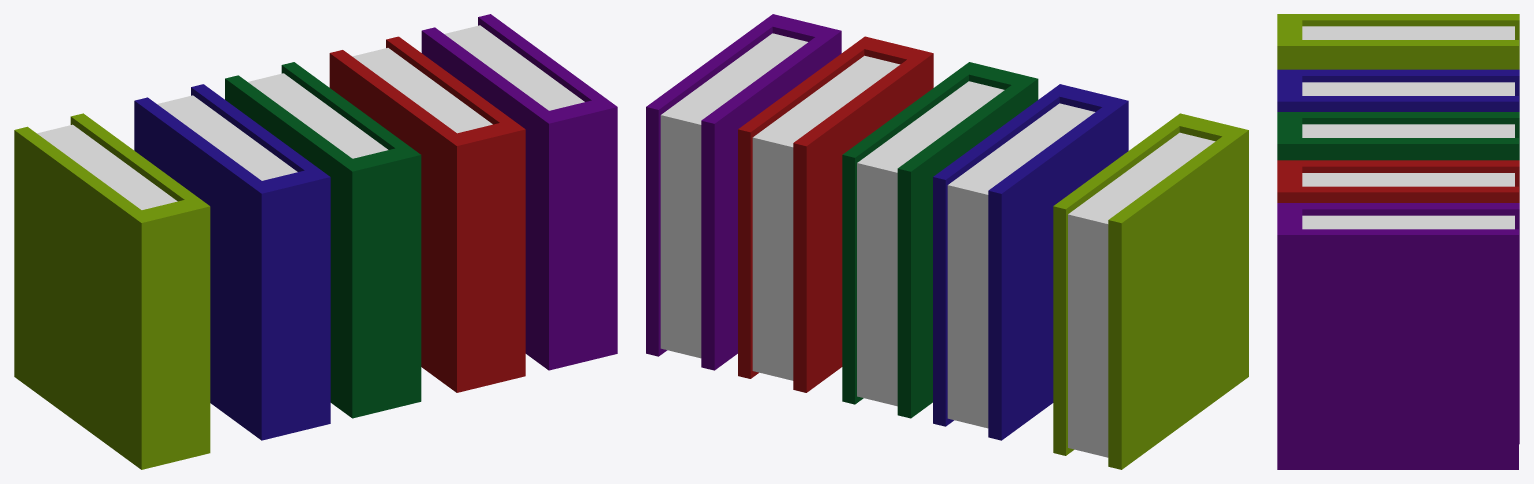
Rendered from Books.fbx.
3 renders of one model, left to right at view 1: azimuth 30°, elevation 25°; view 2: azimuth 150°, elevation 25°; view 3: azimuth 270°, elevation 25°, orthographic. The views are drawn at different scales.
Parts seen in each view (by area): view 1: YellowBook, BlueBook, RedBook, PurpleBook, GreenBook; view 2: YellowBook, BlueBook, RedBook, PurpleBook, GreenBook; view 3: PurpleBook, YellowBook, GreenBook, BlueBook, RedBook.
Boxes of the visible parts, bbox=[...] form: YellowBook: bbox=[14, 113, 210, 469]; BlueBook: bbox=[134, 84, 330, 440]; RedBook: bbox=[329, 36, 525, 392]; PurpleBook: bbox=[421, 14, 617, 370]; GreenBook: bbox=[225, 62, 421, 418]; YellowBook: bbox=[1053, 113, 1248, 469]; BlueBook: bbox=[933, 84, 1128, 440]; RedBook: bbox=[738, 36, 933, 392]; PurpleBook: bbox=[646, 14, 841, 370]; GreenBook: bbox=[842, 62, 1038, 418]; PurpleBook: bbox=[1277, 203, 1519, 469]; YellowBook: bbox=[1277, 14, 1519, 69]; GreenBook: bbox=[1277, 112, 1519, 160]; BlueBook: bbox=[1277, 69, 1519, 111]; RedBook: bbox=[1277, 160, 1519, 202].
Bounding box in the file's own units: 404 × 200 × 187.
